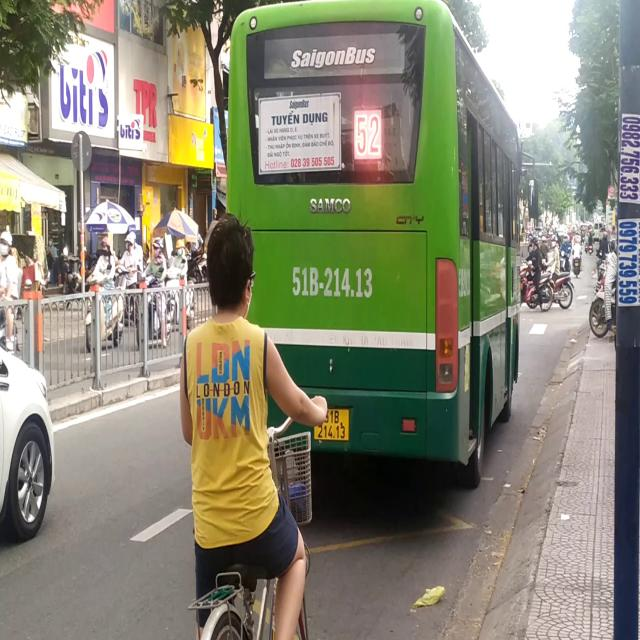bien_vang: (312, 402, 351, 444)
